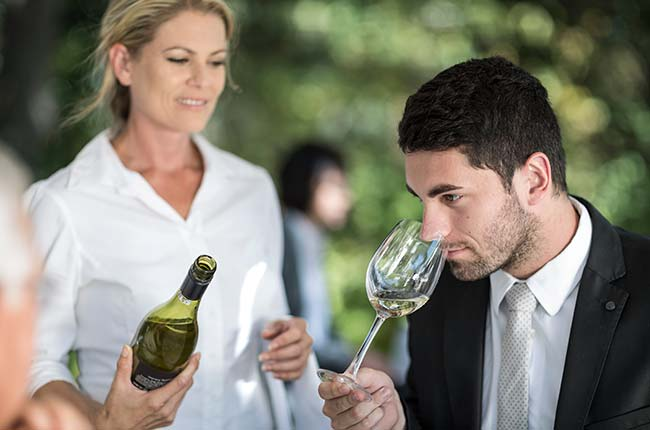drinking: (309, 61, 599, 386)
